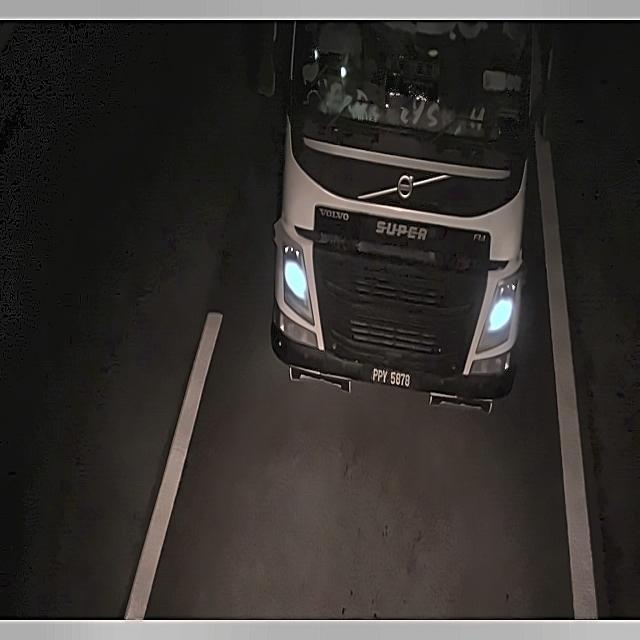car: (366, 358, 418, 393)
